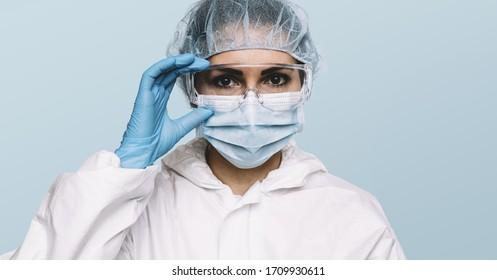gloves: (113, 53, 214, 169)
